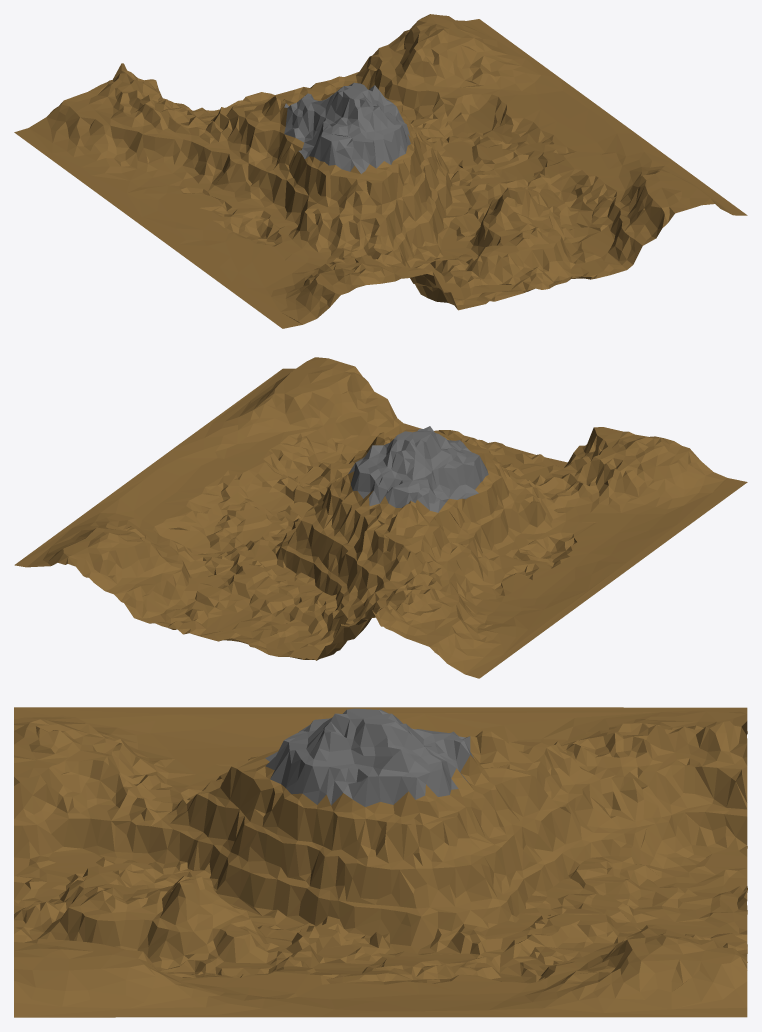
File: Terrain_25.fbx
The picture shows the model from 3 angles, top to bottom: view 1: azimuth 30°, elevation 25°; view 2: azimuth 150°, elevation 25°; view 3: azimuth 270°, elevation 25°; orthographic projection. The views are drawn at different scales.
Parts seen in each view (by area): view 1: Terrain_25; view 2: Terrain_25; view 3: Terrain_25.
Part boxes in pixels (x1=…): Terrain_25: x1=14, y1=14, x2=747, y2=328; Terrain_25: x1=14, y1=357, x2=747, y2=678; Terrain_25: x1=14, y1=707, x2=747, y2=1017.
Size of the model in its own units: 20000 by 4981 by 20020.
